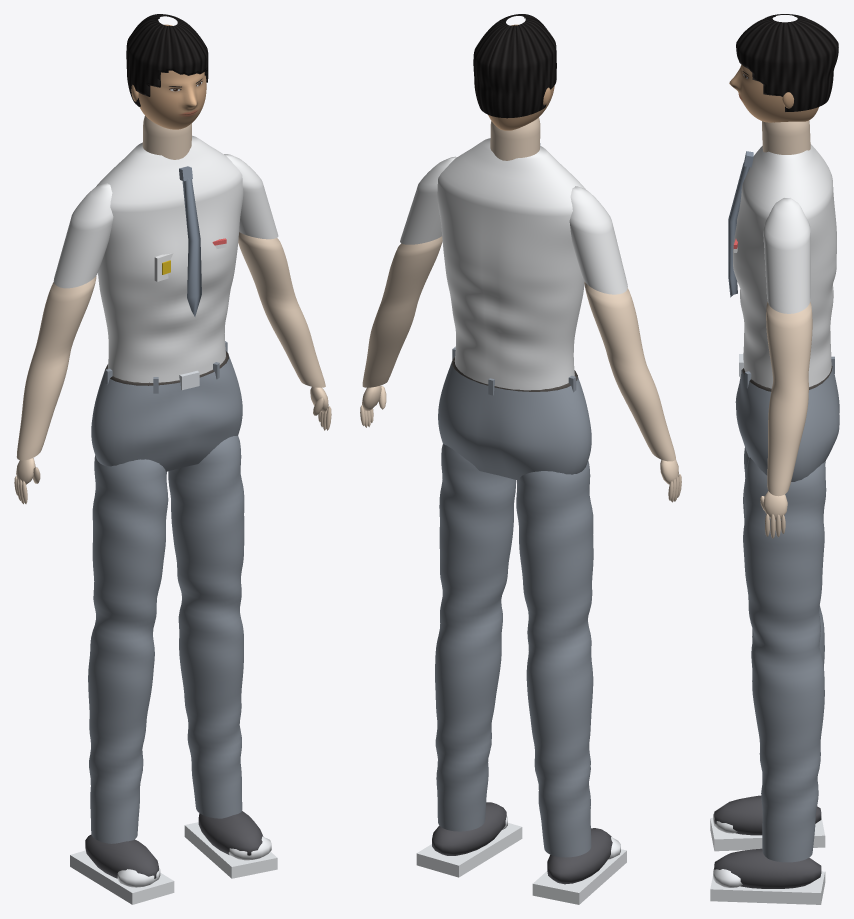
File: csl_char_ren (1).glb
3 renders of one model, left to right at view 1: azimuth 30°, elevation 25°; view 2: azimuth 150°, elevation 25°; view 3: azimuth 270°, elevation 25°, orthographic.
Visible parts, largest first — view 1: Torso, ShinL, ShinR, LegL, LegR, Head, ArmL, ForeArmL, ForeArmR, ArmR; view 2: Torso, ShinL, ShinR, LegL, LegR, Head, ArmL, ForeArmL, ArmR, ForeArmR; view 3: Torso, ShinR, LegR, Head, ArmR, ForeArmR, ShinL.
Boxes of the visible parts, box(x1,y1,x2,y2) form: Torso: box(91, 116, 243, 471); ShinL: box(70, 632, 174, 904); ShinR: box(178, 612, 277, 878); LegL: box(92, 455, 168, 647); LegR: box(168, 435, 244, 626); Head: box(126, 14, 208, 129); ArmL: box(39, 183, 113, 341); ForeArmL: box(14, 330, 77, 504); ForeArmR: box(251, 275, 331, 430); ArmR: box(224, 154, 291, 285); Torso: box(437, 117, 591, 480); ShinL: box(526, 642, 626, 904); ShinR: box(416, 622, 522, 877); LegL: box(516, 461, 593, 656); LegR: box(439, 444, 515, 635); Head: box(473, 14, 556, 130); ArmL: box(569, 186, 641, 349); ForeArmL: box(601, 336, 681, 502); ArmR: box(385, 156, 456, 292); ForeArmR: box(360, 282, 425, 427); Torso: box(728, 120, 839, 481); ShinR: box(710, 648, 825, 904); LegR: box(743, 457, 826, 660); Head: box(729, 14, 838, 122); ArmR: box(763, 198, 812, 372); ForeArmR: box(760, 361, 809, 538); ShinL: box(710, 605, 825, 851).
Size of the model in its own units: 0.6616 by 1.72 by 0.2376.
13 materials, 1 textured.
